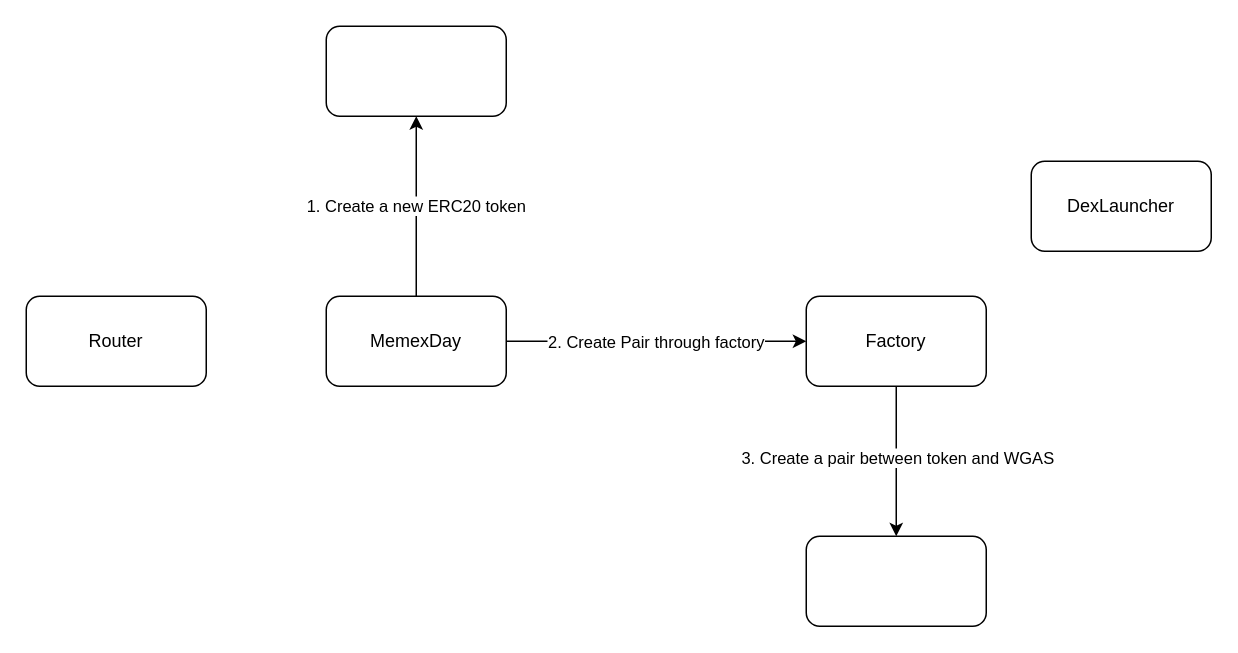
This 1238x653 diagram has some shape labels left out. The shapes that lost their labels are listed below. From the top down, each one's centre as x and y in pixels, then its label:
At (x=415, y=70): "ERC20".
At (x=895, y=580): "Pair".
